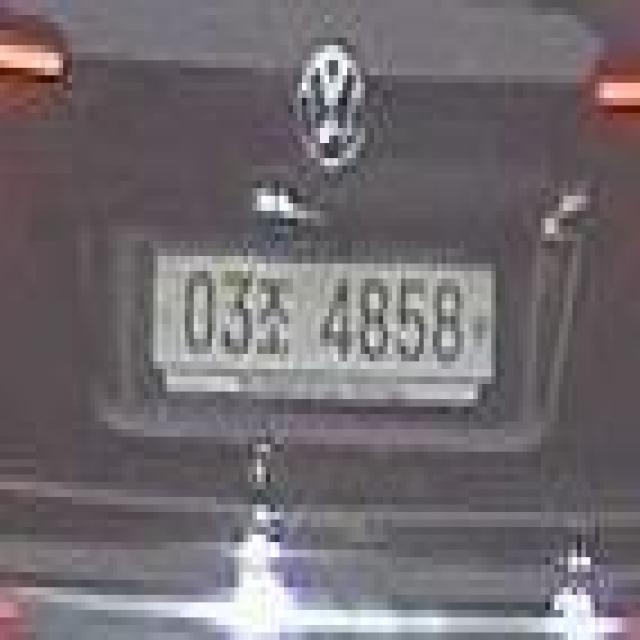illegal_plate: (150, 249, 497, 414)
